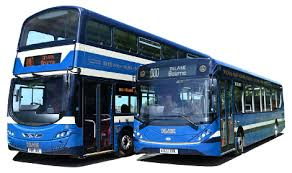bus: (5, 5, 208, 158), (130, 56, 286, 162)
